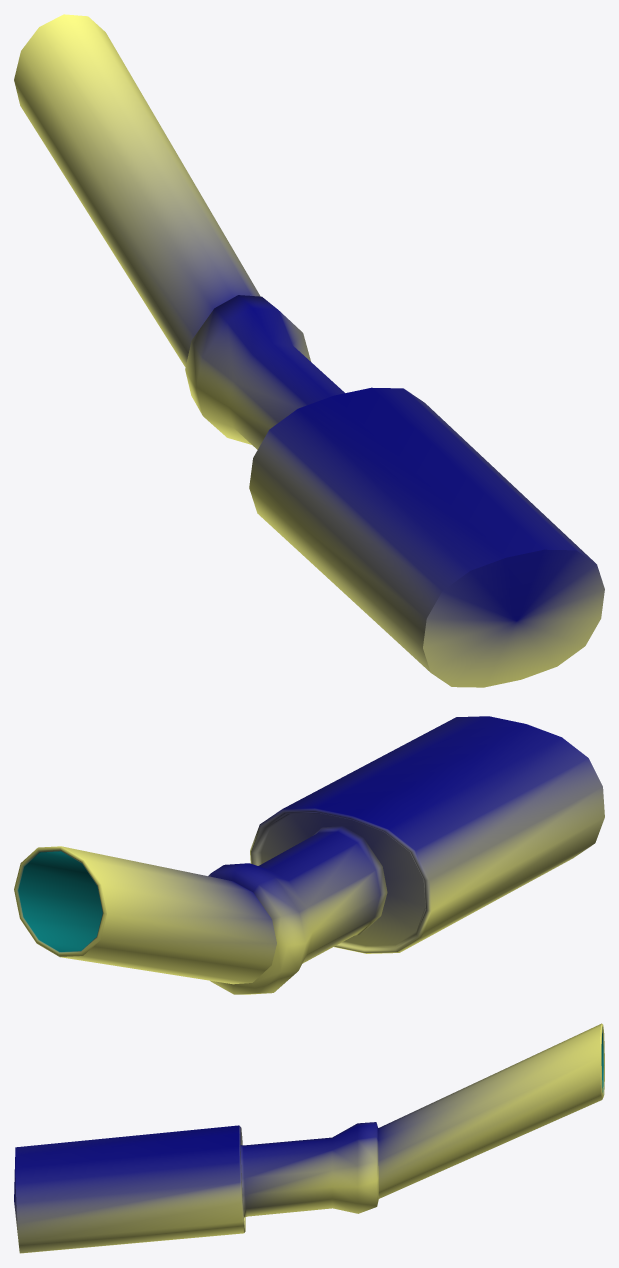
The model's file is Car_Nissan_SkylineGTRVspecR34_1999_Exhausts_SetFB.fbx.
The picture shows the model from 3 angles, top to bottom: view 1: azimuth 30°, elevation 25°; view 2: azimuth 150°, elevation 25°; view 3: azimuth 270°, elevation 25°; orthographic projection. The views are drawn at different scales.
Parts seen in each view (by area): view 1: Exhausts 6; view 2: Exhausts 6; view 3: Exhausts 6.
Boxes of the visible parts, x1,y1,x2,y2 form: Exhausts 6: [14, 14, 604, 687]; Exhausts 6: [14, 716, 604, 994]; Exhausts 6: [14, 1023, 604, 1253].
Size of the model in its own units: 0.156 by 0.2735 by 0.6756.
